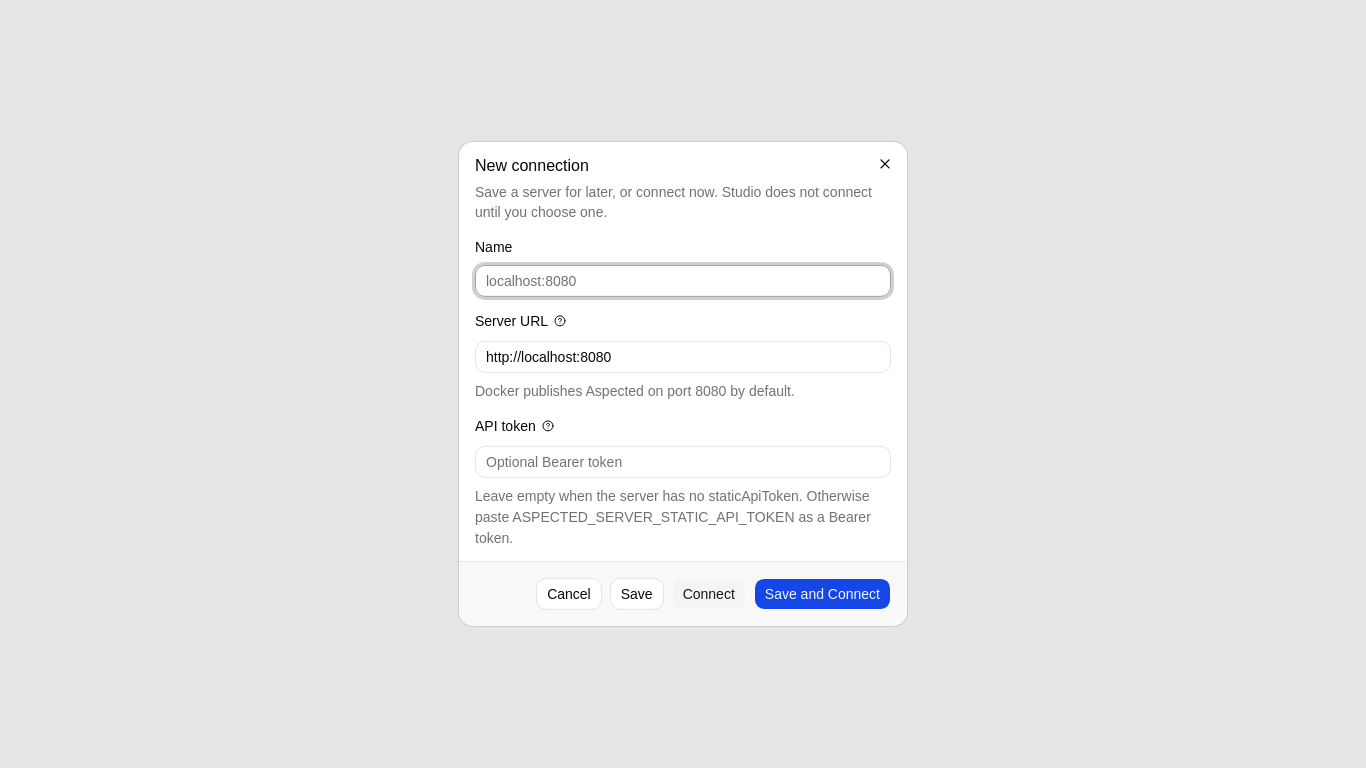
Test: ConnectionDialog › focuses the API token field when connect returns 401
Click the button "Connect" at (709, 594), box [672,578,746,610]
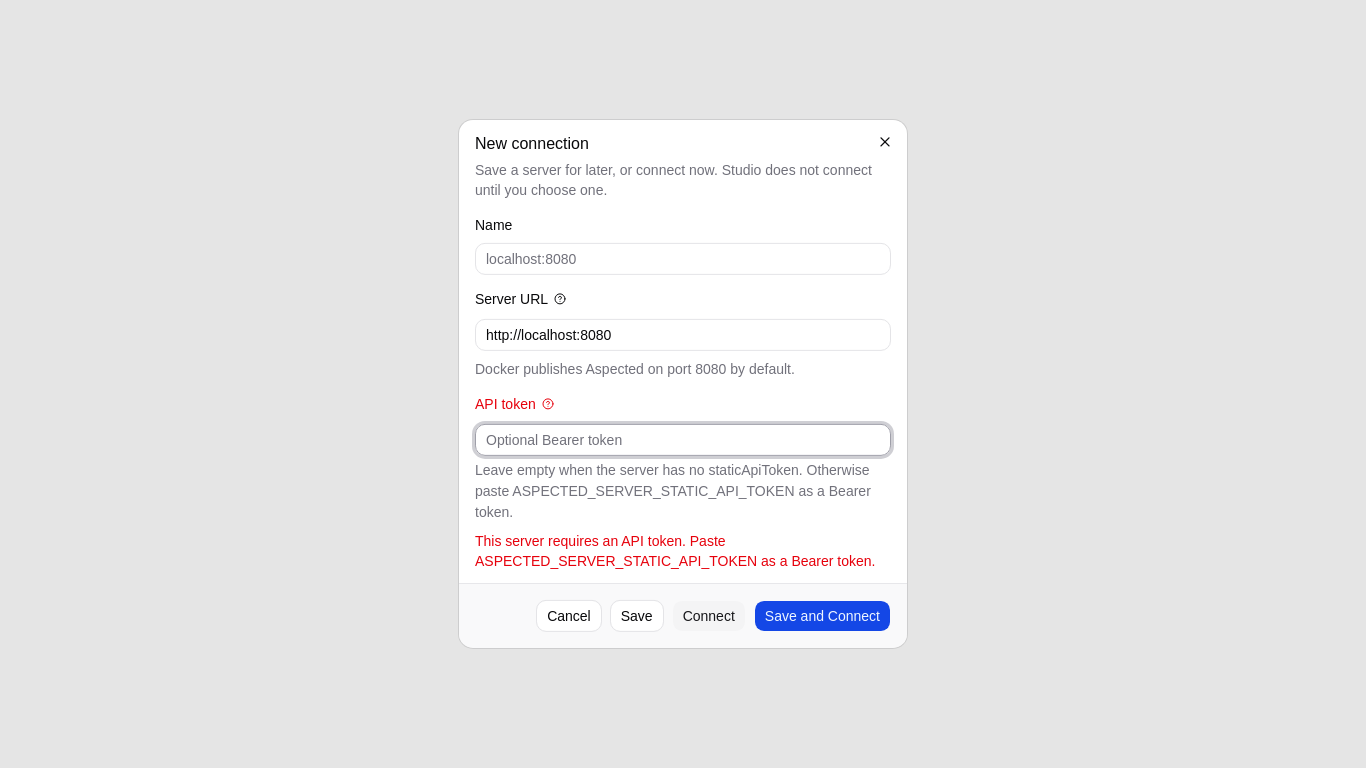
Expected: the text "requires an API token" is shown, [475,533,876,569]
